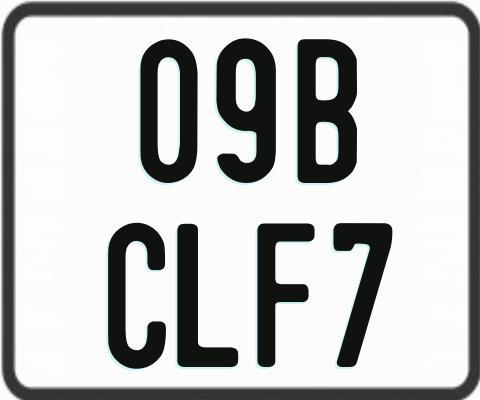0: (139, 39, 198, 186)
7: (332, 222, 393, 366)
9: (214, 35, 280, 181)
B: (297, 39, 359, 187)
C: (106, 223, 164, 370)
F: (255, 221, 316, 365)
L: (176, 221, 242, 365)
